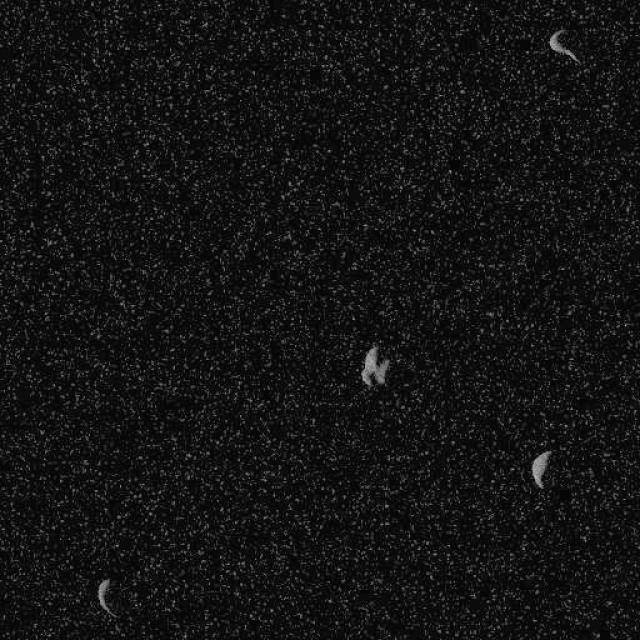D2: (359, 343, 390, 388), (548, 27, 582, 65), (96, 576, 118, 618), (530, 449, 552, 489)
